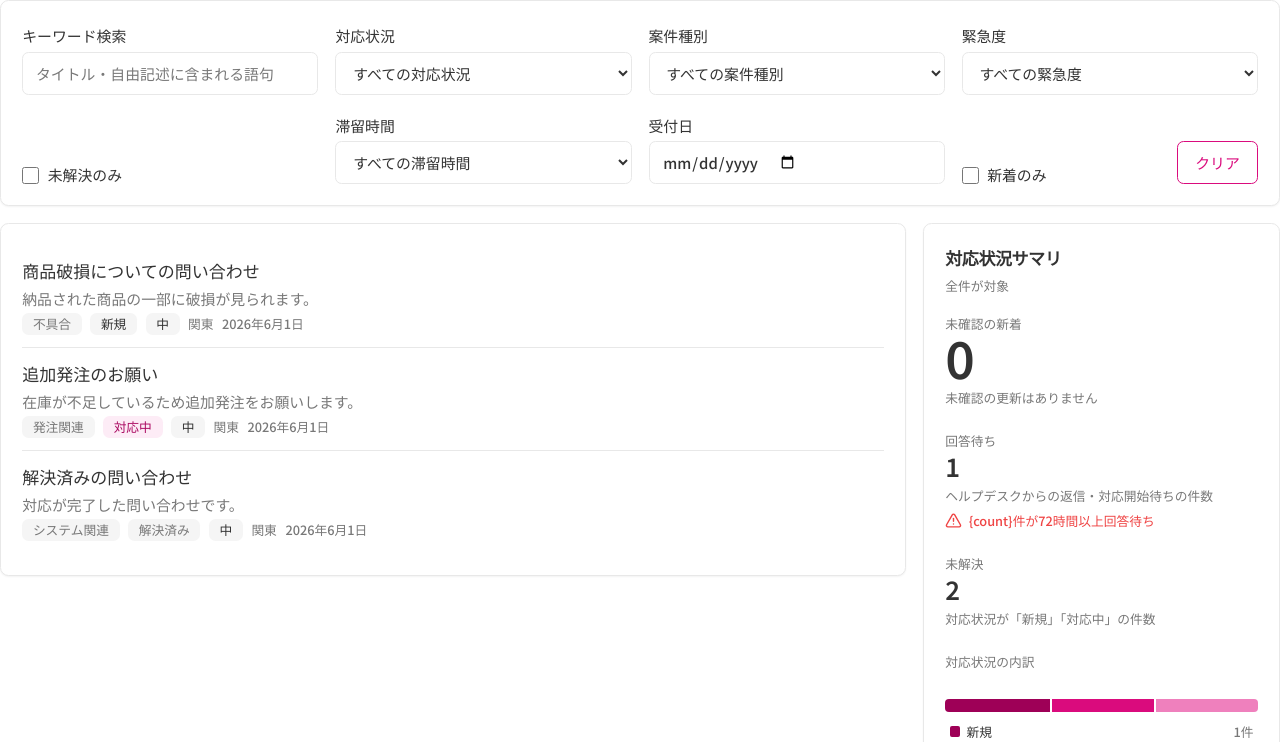
Scenario: InquiryListClient › 再現シナリオ: 緊急度をプレーンなセレクトで選ぶと、未解決のみが自動的にONになる
Select "高" in the dropdown labelled "緊急度" at (1110, 73), box [962, 52, 1258, 94]
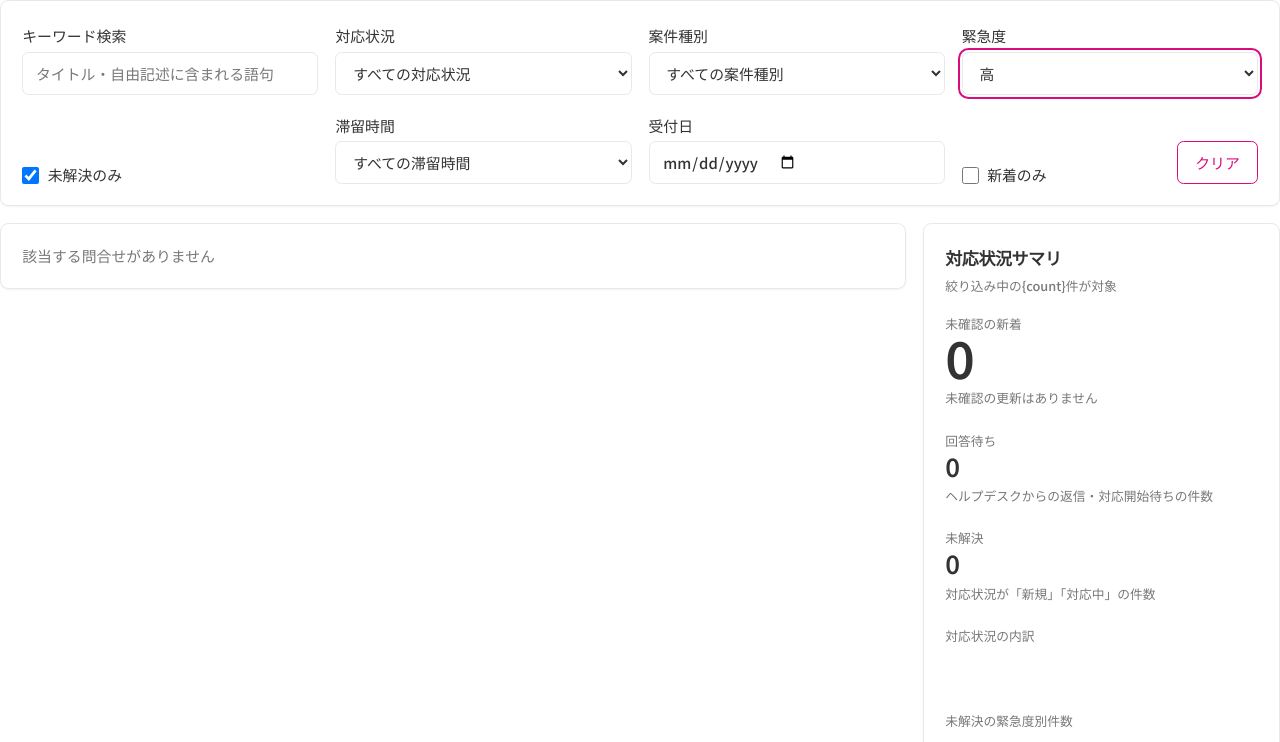
Result: the checkbox labelled "未解決のみ" is checked at [22, 167, 39, 184]
